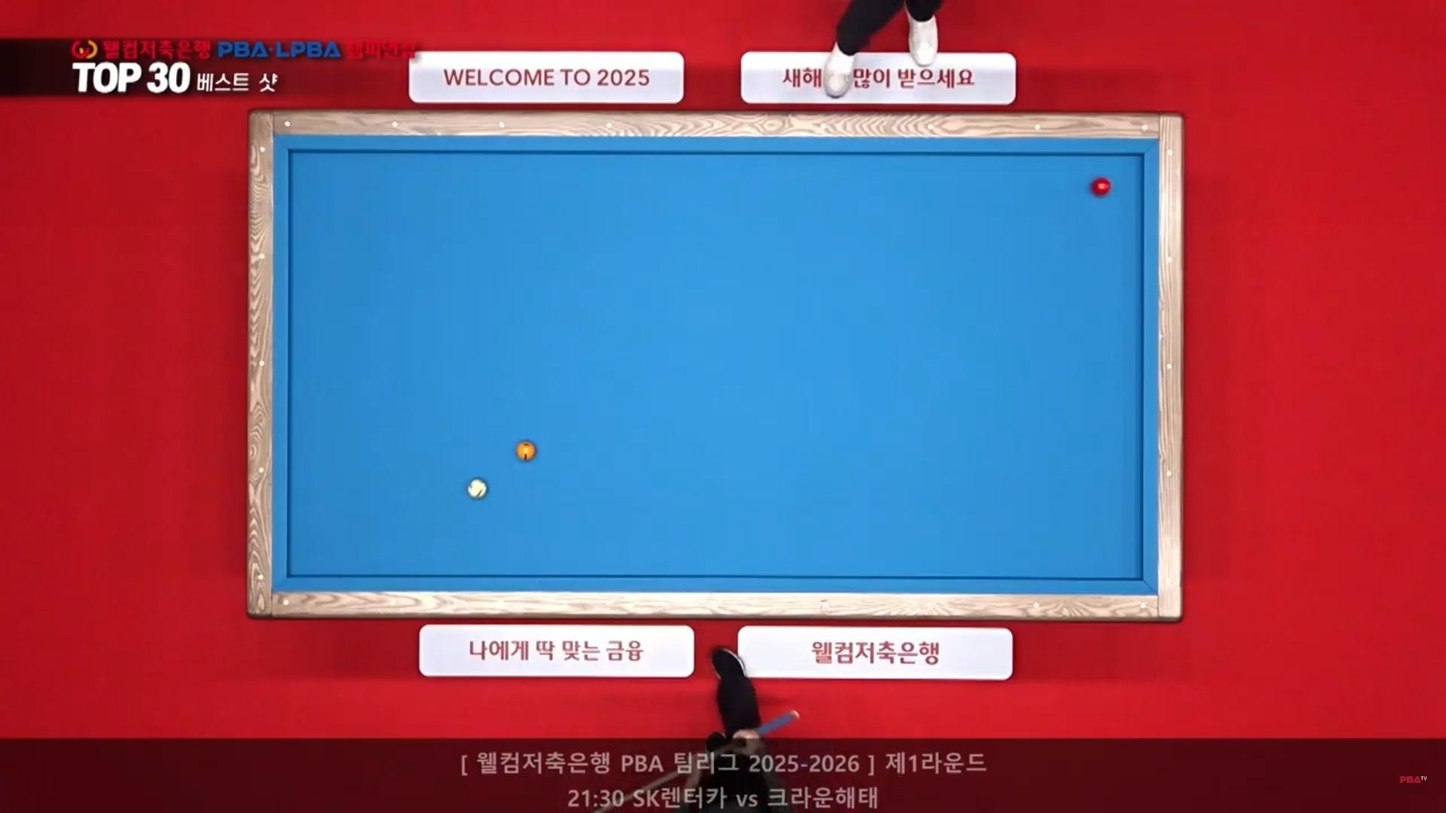Red: (1092, 178, 1114, 195)
White: (467, 480, 490, 500)
billiard-ball-Yellow: (513, 441, 536, 462)
